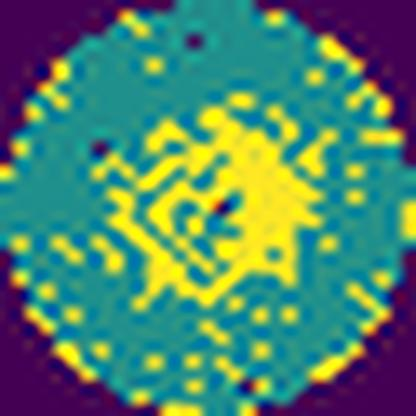Center: (94, 89, 342, 312)
